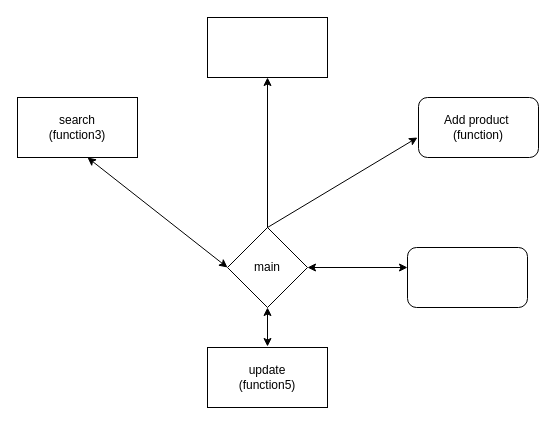
The diagram is 556 pixels wide and 425 high, and some of its shapes have lost their labels. Each missing label, with the centre of its shape:
"listing (function4)" goes at point 467,277.
"remove product (function2)" goes at point 267,47.
